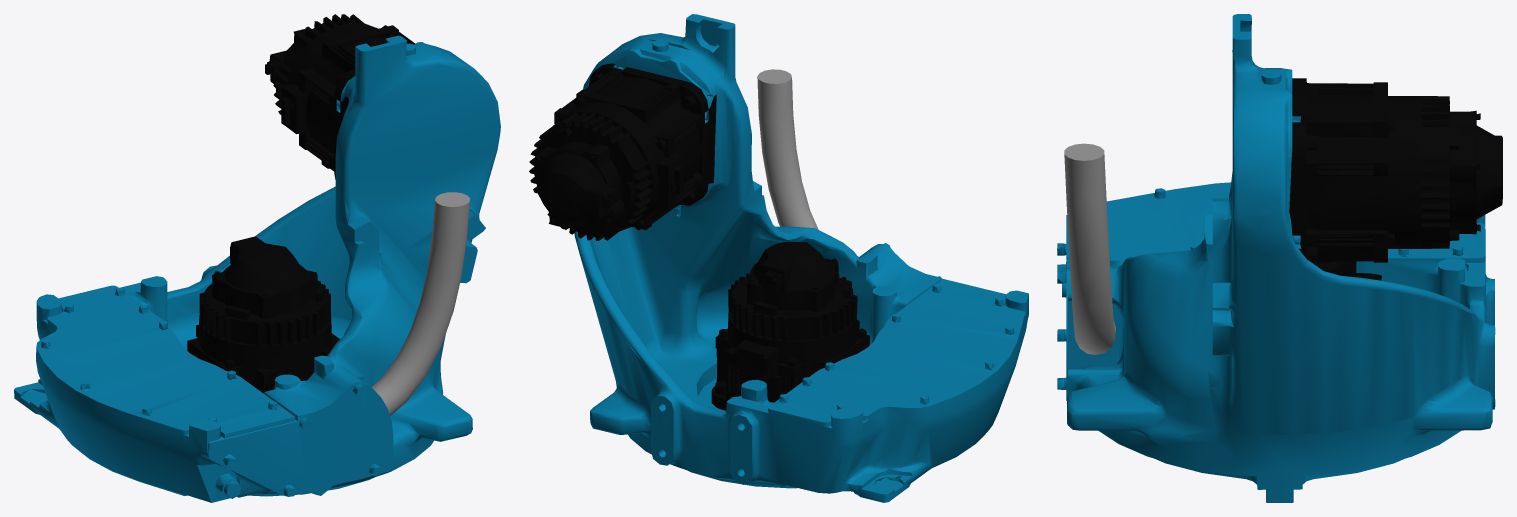
3 renders of one model, left to right at view 1: azimuth 30°, elevation 25°; view 2: azimuth 150°, elevation 25°; view 3: azimuth 270°, elevation 25°, orthographic. The views are drawn at different scales.
Visible parts, largest first — view 1: gp8l_lk1; view 2: gp8l_lk1; view 3: gp8l_lk1.
Boxes of the visible parts, left/top/right/bottom form: gp8l_lk1: left=14, top=14, right=500, bottom=502; gp8l_lk1: left=529, top=14, right=1028, bottom=502; gp8l_lk1: left=1057, top=14, right=1502, bottom=502.
Bounding box in the file's own units: 0.4656 × 0.3727 × 0.4112.
